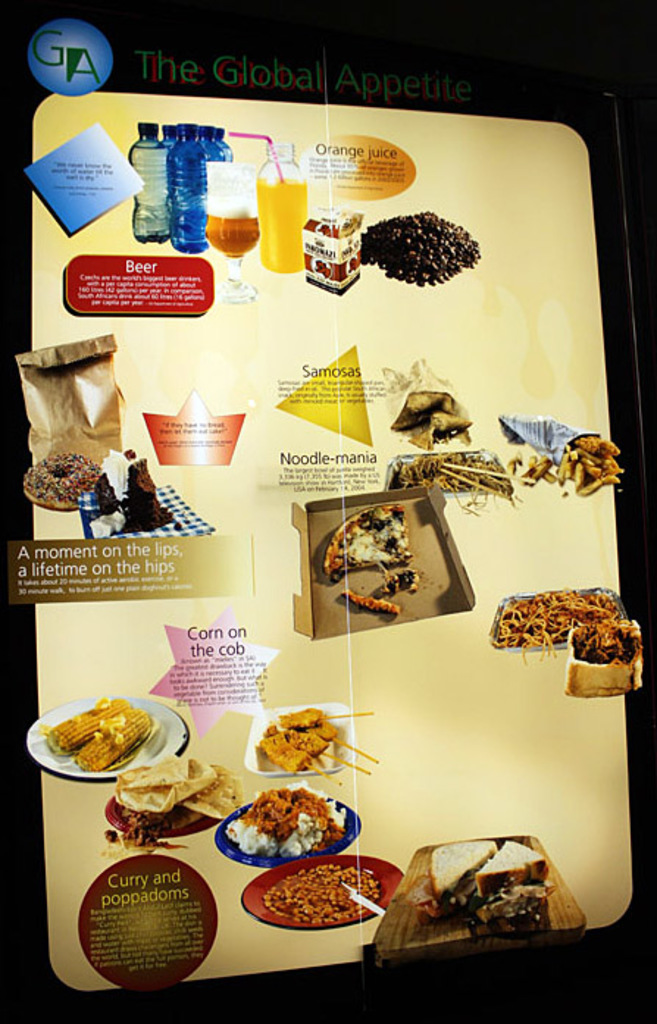Pizza: (326, 499, 413, 584)
